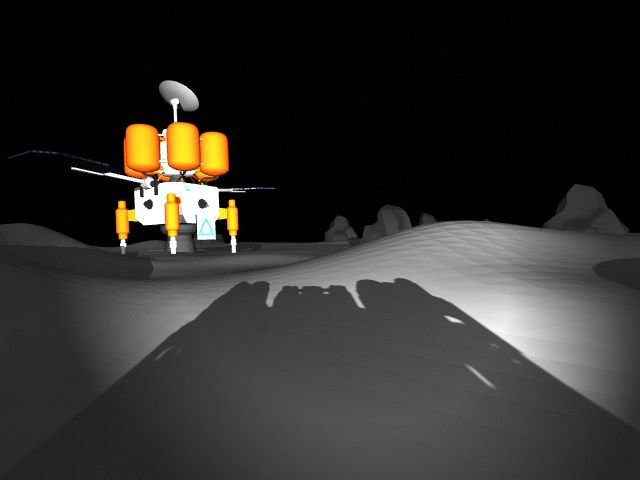homebase: (5, 78, 277, 258)
